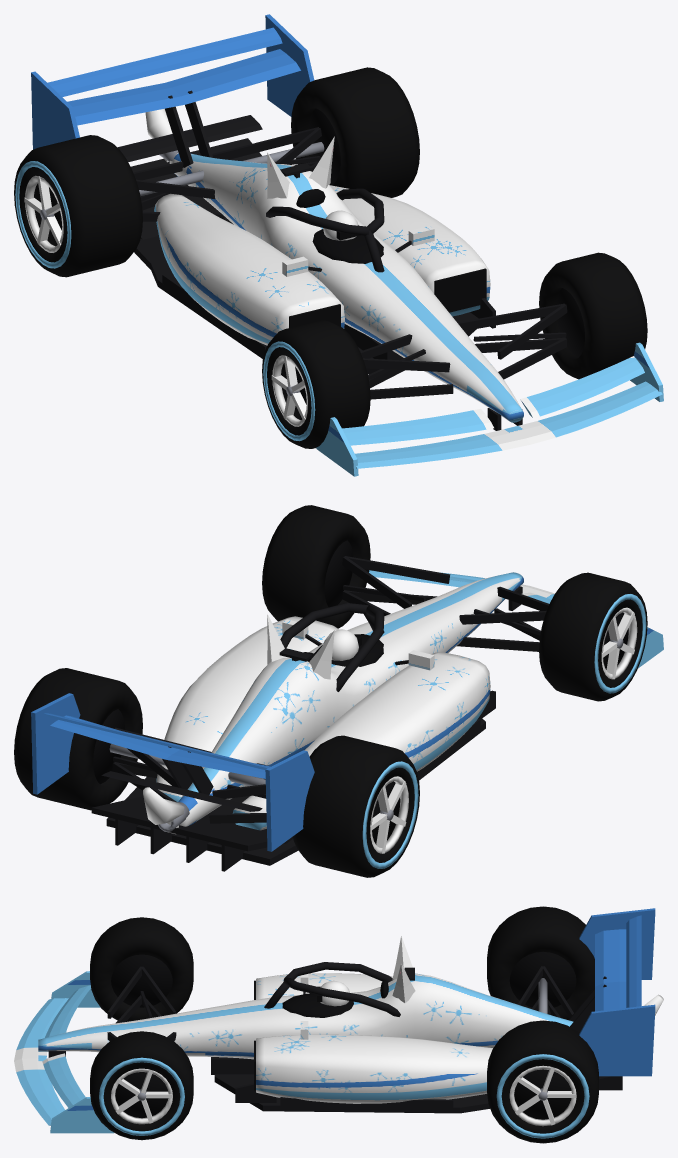
File: tundra_a.fbx
3 renders of one model, top to bottom at view 1: azimuth 30°, elevation 25°; view 2: azimuth 150°, elevation 25°; view 3: azimuth 270°, elevation 25°, orthographic. The views are drawn at different scales.
Parts seen in each view (by area): view 1: Body, Trim, Wheel_RL, Wheel_RR, Wheel_FL, Wheel_FR, Acc; view 2: Body, Trim, Wheel_RL, Wheel_FL, Wheel_RR, Wheel_FR, Acc; view 3: Body, Trim, Wheel_RR, Wheel_FR, Wheel_RL, Wheel_FL, Acc.
Part boxes in pixels (x1,y1,x2,y2): Body: [31, 14, 663, 476]; Trim: [117, 90, 567, 430]; Wheel_RL: [14, 135, 142, 277]; Wheel_RR: [291, 67, 419, 197]; Wheel_FL: [262, 320, 370, 448]; Wheel_FR: [539, 252, 647, 379]; Acc: [145, 109, 334, 198]; Body: [31, 570, 663, 851]; Trim: [91, 556, 549, 871]; Wheel_RL: [293, 735, 419, 877]; Wheel_FL: [539, 572, 647, 701]; Wheel_RR: [14, 668, 142, 810]; Wheel_FR: [262, 505, 370, 628]; Acc: [143, 614, 334, 824]; Body: [14, 908, 655, 1133]; Trim: [48, 962, 622, 1113]; Wheel_RR: [487, 1020, 598, 1143]; Wheel_FR: [90, 1031, 193, 1140]; Wheel_RL: [487, 906, 594, 1019]; Wheel_FL: [90, 917, 193, 1021]; Acc: [392, 936, 663, 1015].
Size of the model in its own units: 9.81 by 4.04 by 18.8.
Materials: 4 (1 with a texture image).
